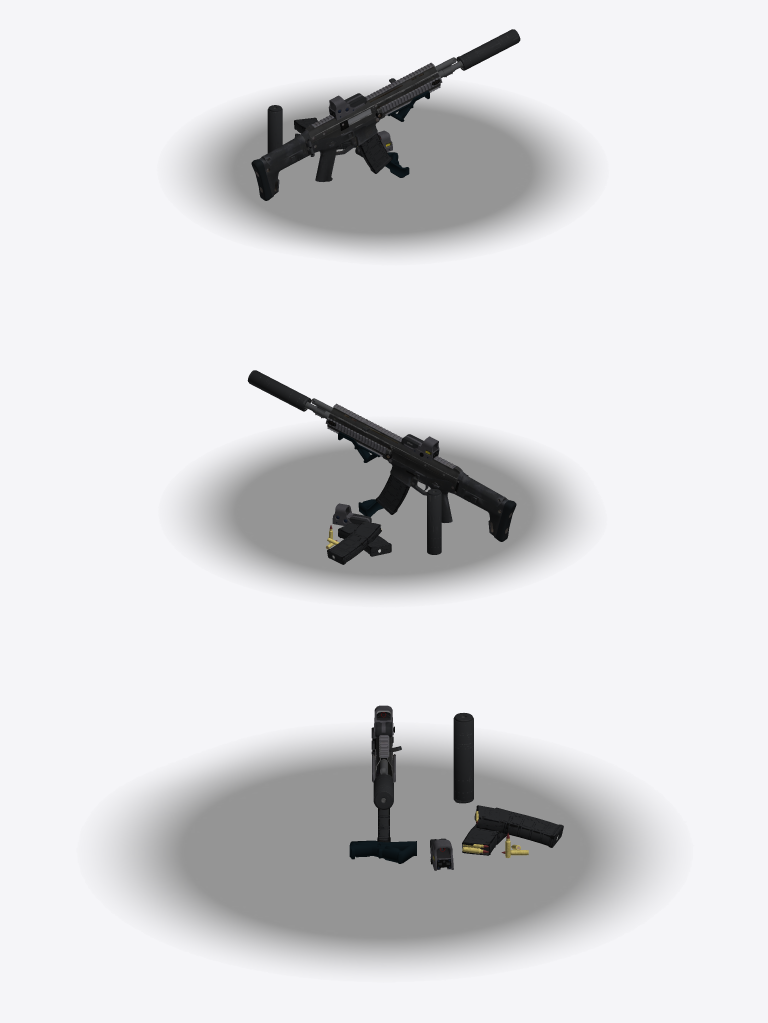
Rendered from acr.glb.
3 renders of one model, top to bottom at view 1: azimuth 30°, elevation 25°; view 2: azimuth 150°, elevation 25°; view 3: azimuth 270°, elevation 25°, orthographic. The views are drawn at different scales.
Parts seen in each view (by area): view 1: GroundPlane, ACRRifle001, Suppresor, Pmag, Suppresor001, Scope; view 2: GroundPlane, ACRRifle001, Pmag002, Suppresor, Suppresor001, Pmag, Scope, Pmag001, Scope001; view 3: GroundPlane, Pmag002, Suppresor001, Foregrip001, ACRRifle001, Pmag001, Suppresor, Scope001, Scope.
Boxes of the visible parts, box(x1,y1,x2,y2) form: GroundPlane: box(175, 82, 591, 257); ACRRifle001: box(251, 57, 463, 200); Suppresor: box(456, 29, 520, 70); Pmag: box(358, 133, 392, 173); Suppresor001: box(267, 105, 282, 152); Scope: box(328, 93, 366, 120); GroundPlane: box(176, 424, 590, 599); ACRRifle001: box(304, 398, 516, 541); Pmag002: box(327, 521, 381, 564); Suppresor: box(247, 370, 310, 411); Suppresor001: box(427, 489, 441, 554); Pmag: box(375, 474, 409, 514); Scope: box(401, 434, 439, 461); Pmag001: box(338, 523, 391, 556); Scope001: box(332, 503, 371, 525); GroundPlane: box(100, 732, 669, 971); Pmag002: box(474, 805, 563, 847); Suppresor001: box(453, 713, 473, 803); Foregrip001: box(349, 840, 416, 863); ACRRifle001: box(371, 712, 401, 782); Pmag001: box(462, 807, 508, 855); Suppresor: box(373, 774, 393, 809); Scope001: box(430, 838, 453, 870); Scope: box(373, 705, 394, 737).
Bounding box in the file's own units: 700 × 156 × 700.
Materials: 6 (6 with a texture image).
